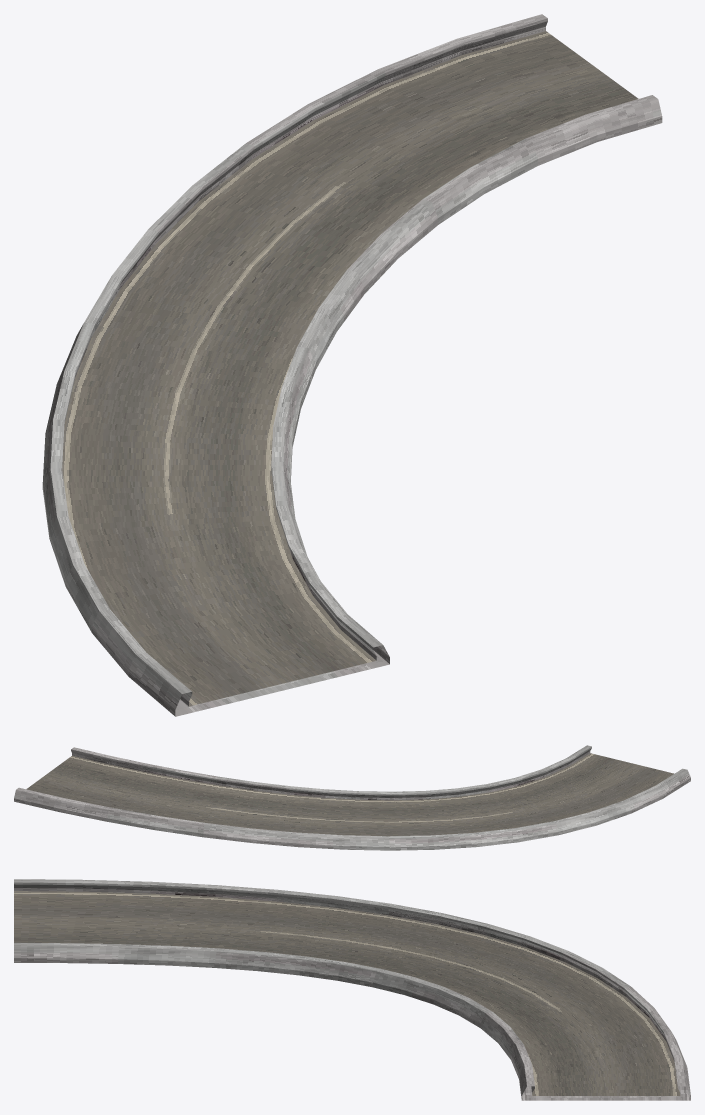
Rendered from road-Turn-Flat-Flat-Up2-Right-Size4.glb.
3 views of the same model, one above another, from view 1: azimuth 30°, elevation 25°; view 2: azimuth 150°, elevation 25°; view 3: azimuth 270°, elevation 25° (orthographic). The views are drawn at different scales.
Parts seen in each view (by area): view 1: road-Turn-Flat-Flat-Up2-Right-Size4; view 2: road-Turn-Flat-Flat-Up2-Right-Size4; view 3: road-Turn-Flat-Flat-Up2-Right-Size4.
Part boxes in pixels (x1,y1,x2,y2): road-Turn-Flat-Flat-Up2-Right-Size4: (42,14,662,716); road-Turn-Flat-Flat-Up2-Right-Size4: (14,745,690,850); road-Turn-Flat-Flat-Up2-Right-Size4: (14,879,690,1100).
Bounding box in the file's own units: 4 × 0.5938 × 4.
Materials: 2 (2 with a texture image).
